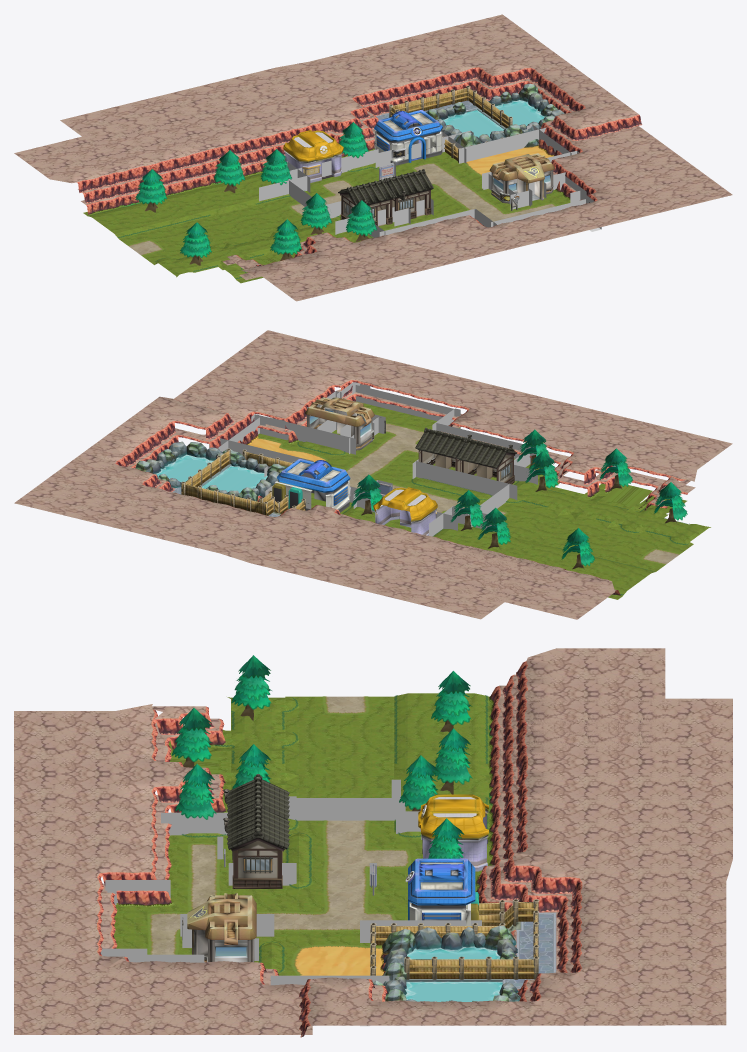
The model's file is Town.opt.glb.
3 views of the same model, one above another, from view 1: azimuth 30°, elevation 25°; view 2: azimuth 150°, elevation 25°; view 3: azimuth 270°, elevation 25° (orthographic). The views are drawn at different scales.
Visible parts, largest first — view 1: weedCopy.001, COLL_All10, COLL_All13, COLL_All14, COLL_All6, COLL_All21, COLL_All28, COLL_All5; view 2: weedCopy.001, COLL_All20, COLL_All23, COLL_All5, COLL_All6, COLL_All10; view 3: weedCopy.001, COLL_All16, COLL_All2, COLL_All1, COLL_All3.
Boxes of the visible parts, bbox=[...] form: weedCopy.001: bbox=[14, 14, 732, 301]; COLL_All10: bbox=[459, 127, 545, 163]; COLL_All13: bbox=[288, 149, 381, 179]; COLL_All14: bbox=[259, 176, 310, 201]; COLL_All6: bbox=[379, 209, 477, 236]; COLL_All21: bbox=[335, 199, 433, 234]; COLL_All28: bbox=[375, 130, 473, 167]; COLL_All5: bbox=[491, 199, 588, 226]; weedCopy.001: bbox=[14, 330, 732, 619]; COLL_All20: bbox=[412, 461, 517, 500]; COLL_All23: bbox=[251, 414, 355, 454]; COLL_All5: bbox=[352, 385, 456, 421]; COLL_All6: bbox=[433, 423, 536, 458]; COLL_All10: bbox=[209, 438, 313, 462]; weedCopy.001: bbox=[14, 648, 732, 1037]; COLL_All16: bbox=[288, 798, 405, 820]; COLL_All2: bbox=[168, 812, 227, 835]; COLL_All1: bbox=[270, 975, 389, 985]; COLL_All3: bbox=[105, 880, 170, 902].
Size of the model in its own units: 190 by 18.36 by 153.
Materials: 49 (49 with a texture image).
